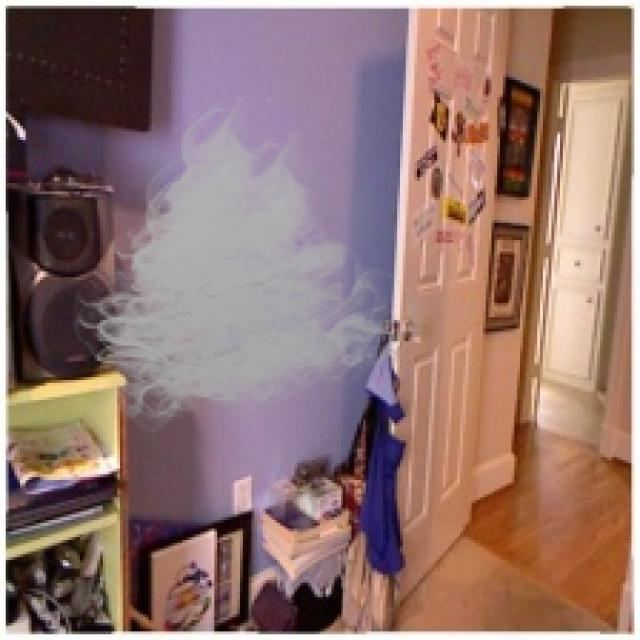smoke: (63, 97, 428, 440)
